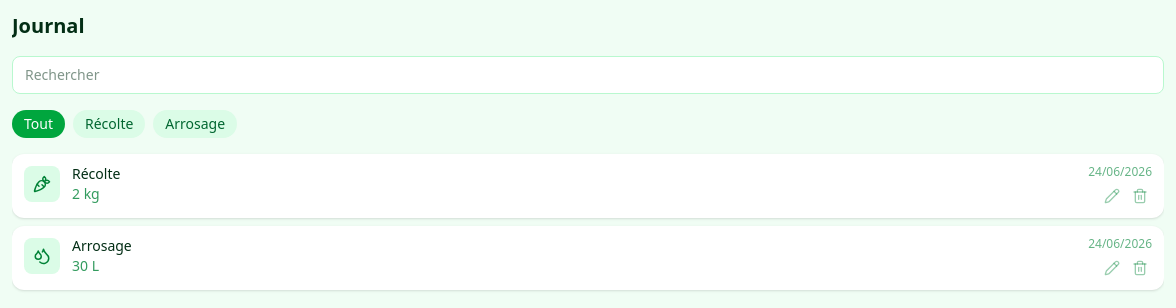
Scenario: JournalPage › le filtre Arrosage masque les entrées des autres types
Expected: the text "2 kg" is shown, [72,184,100,203]
What coordinates should you click on to do the following:
click the button "Arrosage"
I would click on:
 (195, 124)
Its box is [153,110,237,138].
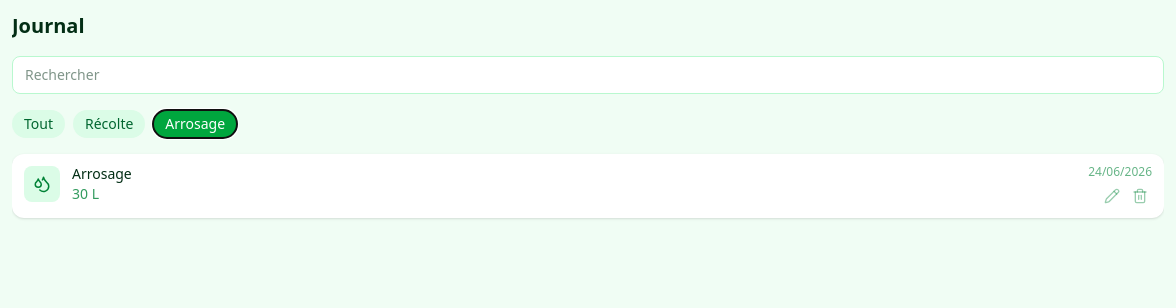
Expected: the text "30 L" is shown, [72,184,99,203]
Expected: the text "2 kg" is gone
